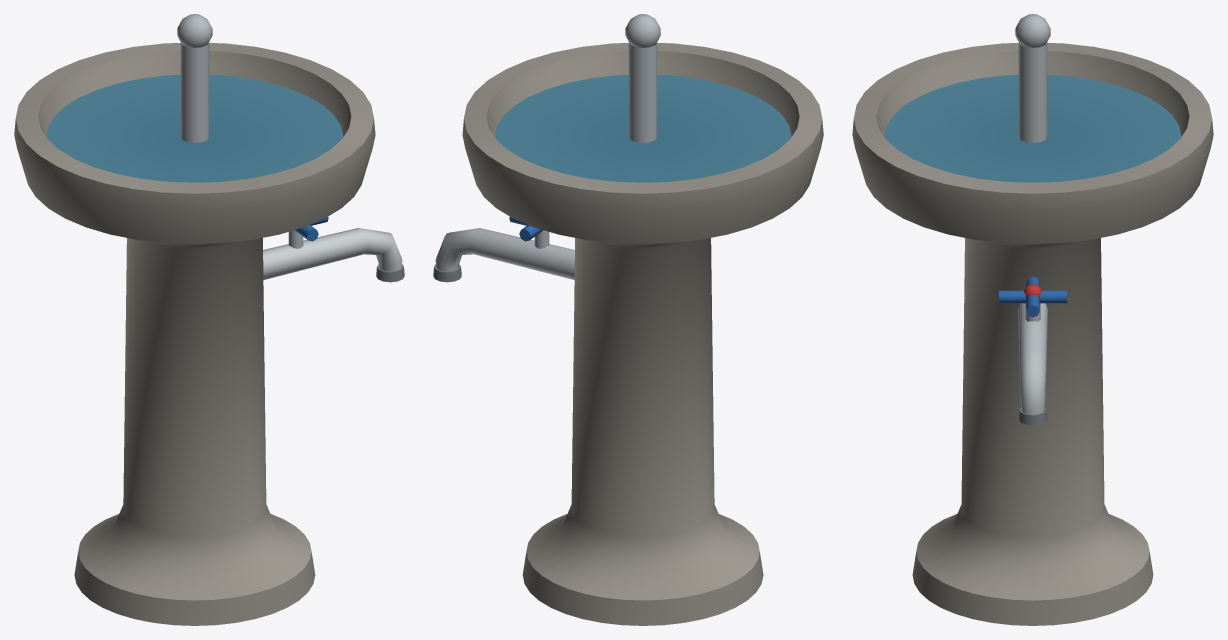
The model's file is Park_Fountain.fbx.
3 views of the same model, side by side, from view 1: azimuth 30°, elevation 25°; view 2: azimuth 150°, elevation 25°; view 3: azimuth 270°, elevation 25° (orthographic).
Parts seen in each view (by area): view 1: Park_Fountain; view 2: Park_Fountain; view 3: Park_Fountain.
Boxes of the visible parts, x1,y1,x2,y2 form: Park_Fountain: [14, 14, 404, 625]; Park_Fountain: [433, 14, 823, 625]; Park_Fountain: [852, 14, 1213, 625].
Bounding box in the file's own units: 5.59 × 8.2 × 4.8.
